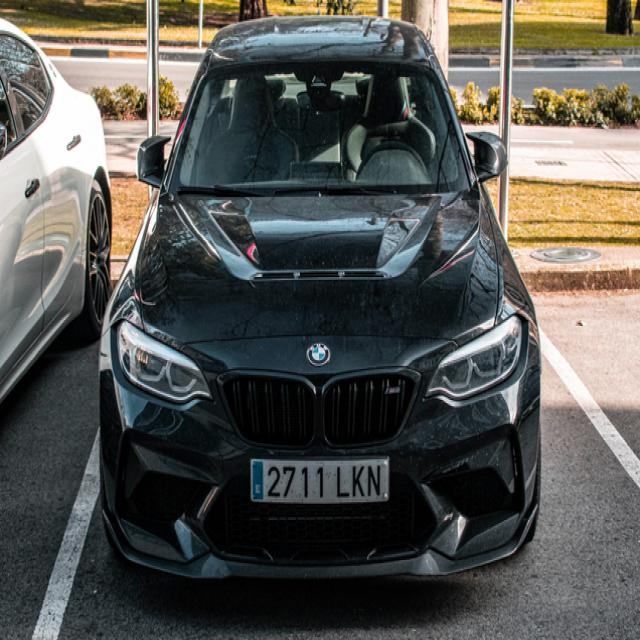License-Plate: (249, 457, 390, 505)
